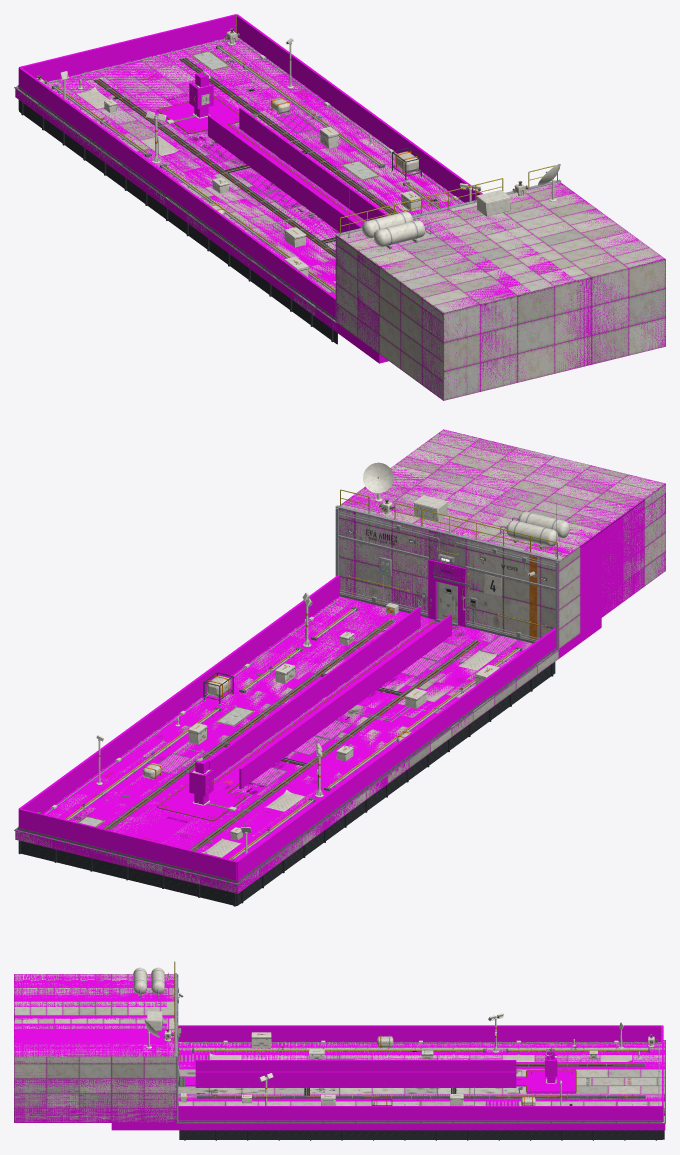
Rendered from hull_fore.glb.
3 renders of one model, top to bottom at view 1: azimuth 30°, elevation 25°; view 2: azimuth 150°, elevation 25°; view 3: azimuth 270°, elevation 25°, orthographic. The views are drawn at different scales.
Visible parts, largest first — view 1: annex, deck, col_deck, col_rails, col_annex, col_track_rails, col_walkplate, col_relay; view 2: annex, col_deck, deck, col_annex, col_rails, col_track_rails, col_walkplate, col_gate_frame, col_relay, gate4_door; view 3: deck, annex, col_annex, col_rails, col_deck, col_track_rails, col_walkplate, col_relay.
Boxes of the visible parts, x1,y1,x2,y2 form: annex: [335, 164, 665, 400]; deck: [14, 37, 463, 344]; col_deck: [15, 37, 462, 363]; col_rails: [18, 14, 482, 317]; col_annex: [336, 182, 665, 400]; col_track_rails: [208, 107, 388, 232]; col_walkplate: [158, 97, 362, 226]; col_relay: [189, 72, 213, 117]; annex: [335, 429, 665, 649]; col_deck: [15, 596, 601, 893]; deck: [14, 596, 559, 906]; col_annex: [336, 429, 665, 648]; col_rails: [18, 575, 556, 882]; col_track_rails: [209, 606, 451, 789]; col_walkplate: [158, 623, 435, 820]; col_gate_frame: [428, 559, 466, 627]; col_relay: [189, 759, 213, 804]; gate4_door: [437, 582, 457, 622]; deck: [176, 1022, 665, 1140]; annex: [14, 961, 183, 1122]; col_annex: [14, 974, 176, 1122]; col_rails: [178, 1025, 663, 1121]; col_deck: [111, 1040, 665, 1130]; col_track_rails: [195, 1060, 516, 1087]; col_walkplate: [185, 1071, 575, 1091]; col_relay: [545, 1049, 557, 1082].
Size of the model in its own units: 12.1 by 8.51 by 40.05.
Materials: 18 (11 with a texture image).
